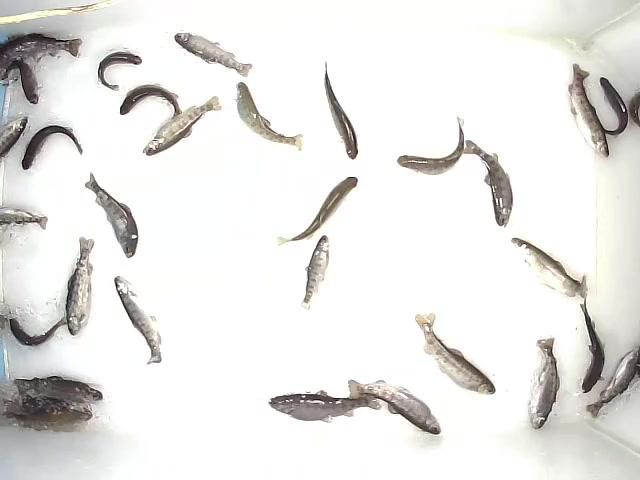fish: (414, 310, 497, 398), (274, 175, 359, 247), (343, 378, 442, 436), (82, 169, 139, 260), (512, 237, 591, 301), (143, 93, 222, 157), (563, 60, 613, 161), (235, 79, 305, 151), (112, 273, 165, 366), (464, 136, 516, 228), (267, 387, 386, 427), (397, 113, 467, 175), (171, 29, 253, 79), (322, 59, 360, 158), (63, 232, 99, 336), (525, 334, 559, 430), (20, 122, 85, 171), (1, 401, 93, 432), (15, 375, 103, 407), (300, 234, 332, 311), (117, 83, 183, 119), (95, 47, 144, 92), (8, 312, 70, 347), (596, 76, 629, 137)
